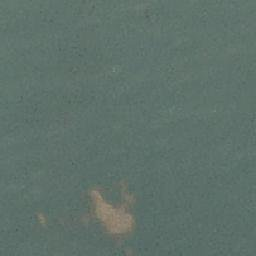debris: (81, 186, 133, 247), (36, 212, 45, 226)
